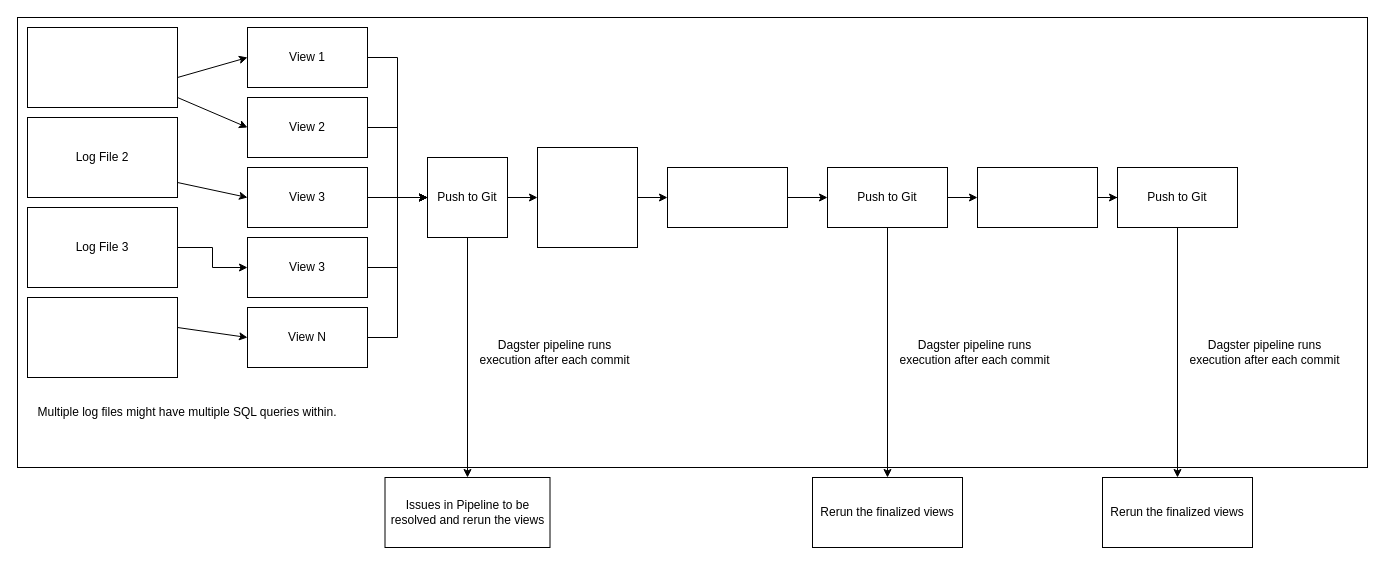
Image size: 1385x565. Some labels were removed from this diagram. The shapes that lost their labels are listed below. From the top down, each one's centre as x and y in pixels, then its label:
point 102,67: Log File 1
point 587,197: Initiate Transformation
point 727,197: Re-create new final views
point 1037,197: Create Tables Based on Views
point 102,337: Log File N
